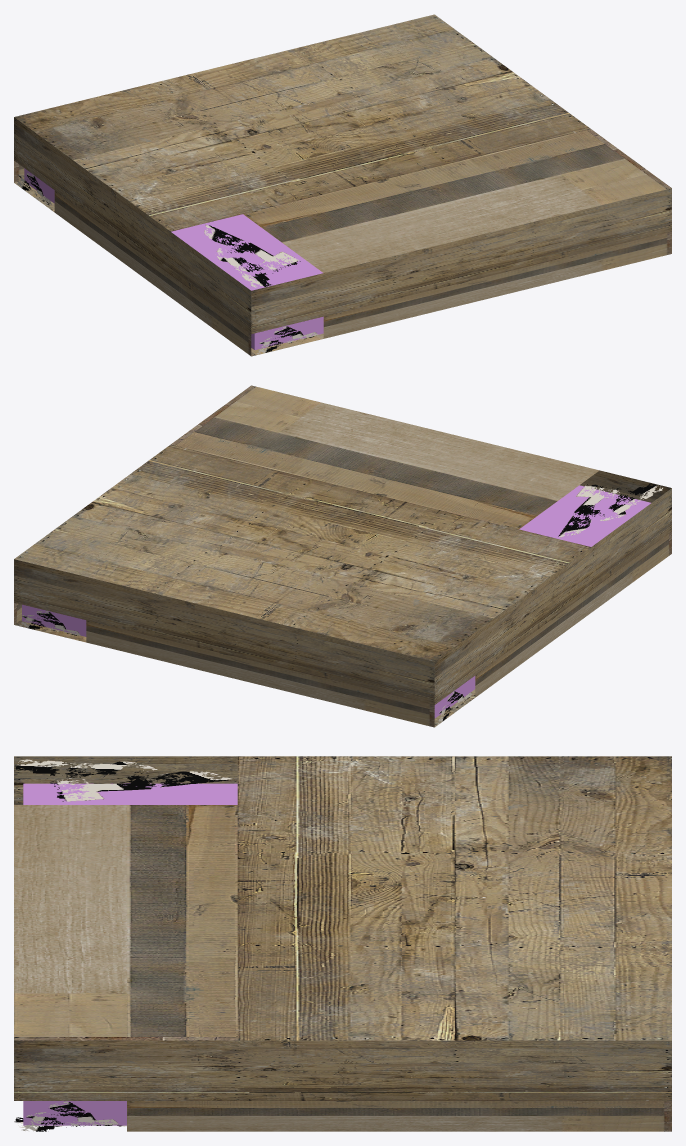
The model's file is palletsmall_unbroken.DAE.
3 renders of one model, top to bottom at view 1: azimuth 30°, elevation 25°; view 2: azimuth 150°, elevation 25°; view 3: azimuth 270°, elevation 25°, orthographic. The views are drawn at different scales.
Visible parts, largest first — view 1: bounds, colbox-1; view 2: bounds, colbox-1; view 3: bounds, colbox-1.
Part boxes in pixels (box(x1,y1,x2,y2)): bounds: box(14, 14, 671, 356); colbox-1: box(24, 168, 323, 349); bounds: box(14, 385, 671, 727); colbox-1: box(22, 485, 650, 718); bounds: box(14, 756, 671, 1131); colbox-1: box(23, 783, 237, 1125).
Bounding box in the file's own units: 1.85 × 1.81 × 0.2762.
